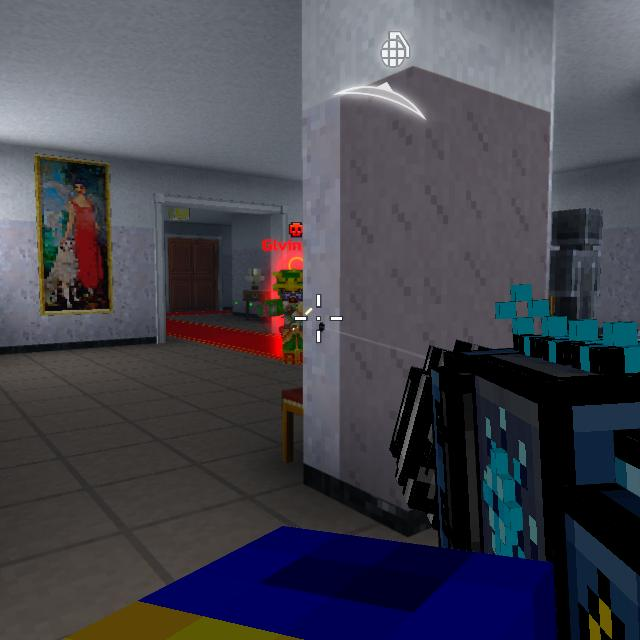Enemy: (264, 269, 302, 366)
